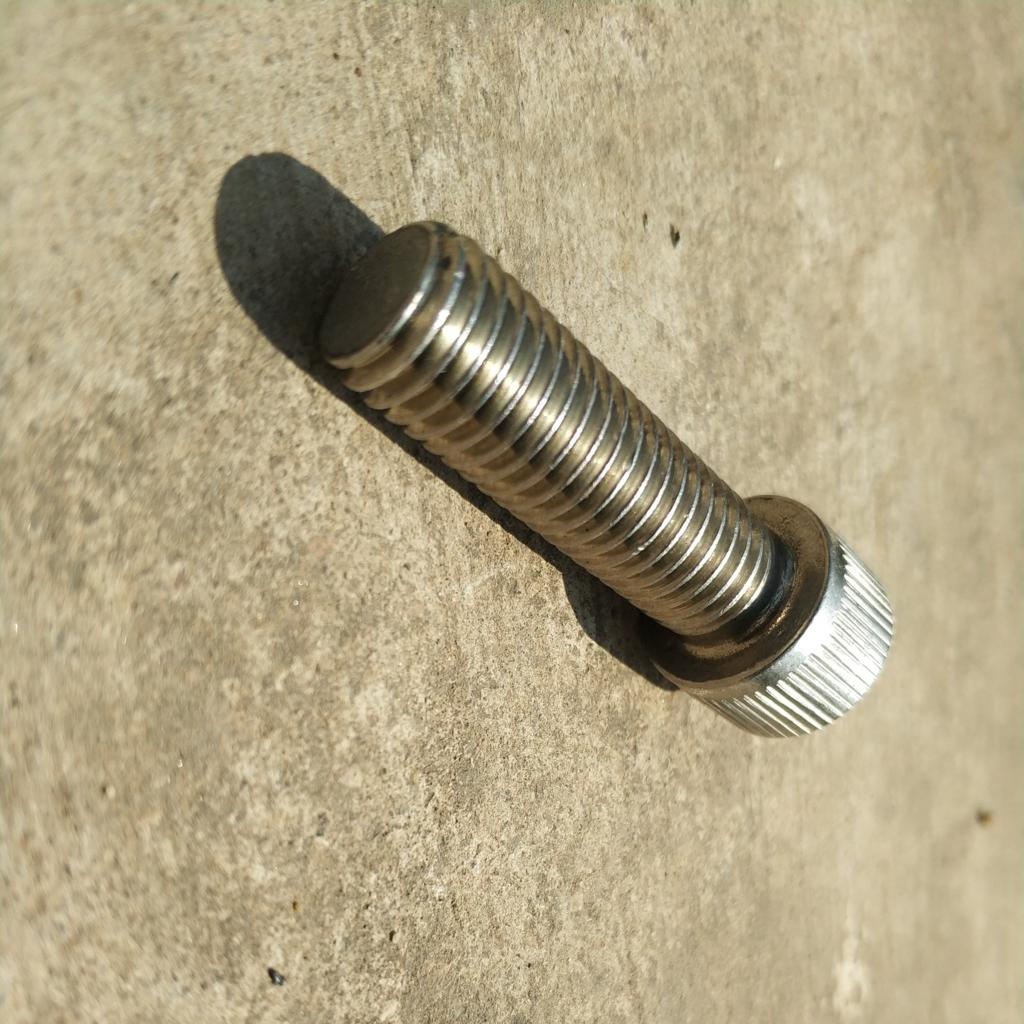screwtype1silver: (307, 211, 900, 759)
